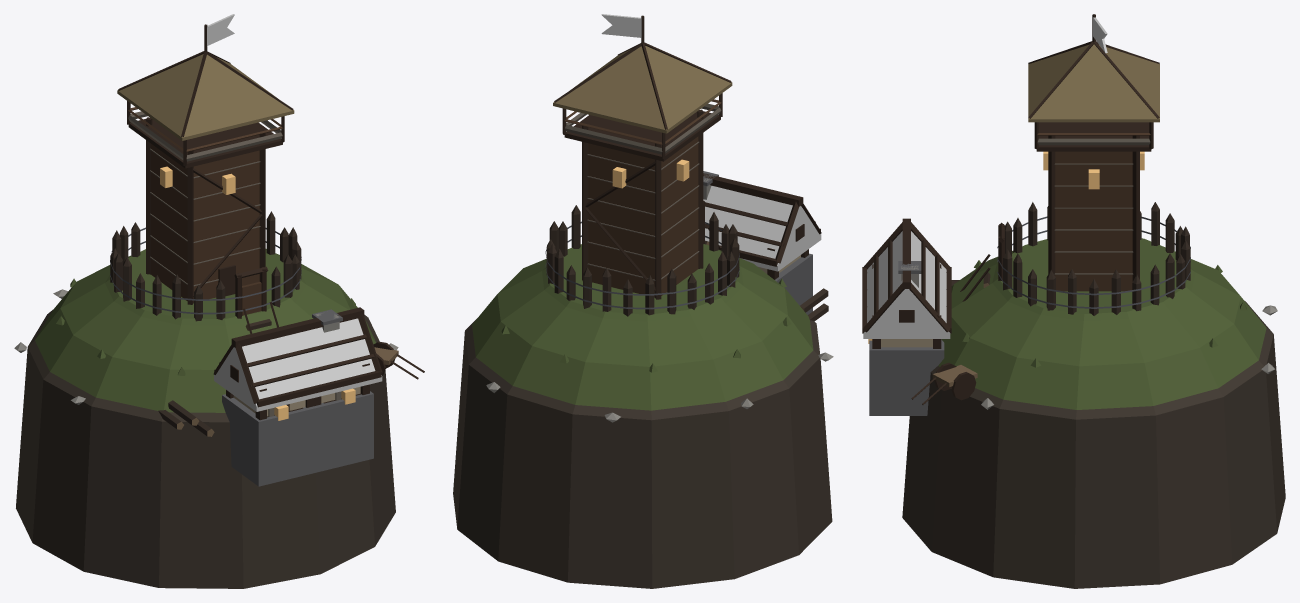
File: motte.glb
3 renders of one model, left to right at view 1: azimuth 30°, elevation 25°; view 2: azimuth 150°, elevation 25°; view 3: azimuth 270°, elevation 25°, orthographic.
Visible parts, largest first — view 1: young keep, young keep close!fine; view 2: young keep, young keep close!fine, pennant; view 3: young keep, young keep close!fine.
Boxes of the visible parts, bbox=[...] form: young keep: bbox=[16, 24, 424, 588]; young keep close!fine: bbox=[14, 51, 398, 417]; young keep: bbox=[453, 15, 832, 588]; young keep close!fine: bbox=[486, 42, 833, 422]; pennant: bbox=[601, 14, 641, 37]; young keep: bbox=[862, 14, 1285, 588]; young keep close!fine: bbox=[863, 41, 1277, 409].
Size of the model in its own units: 6.37 by 9.01 by 7.02.
